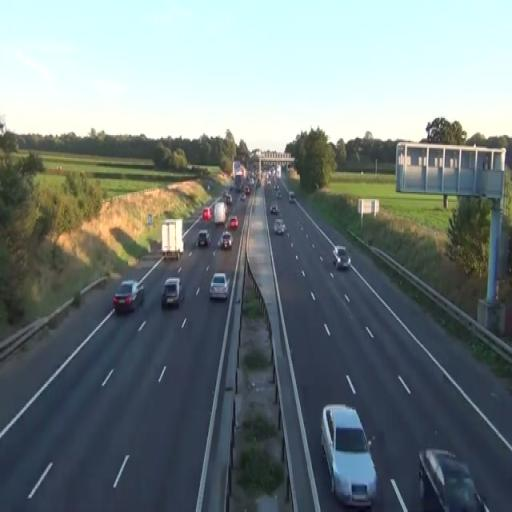Car: (320, 404, 378, 508), (417, 446, 481, 512), (112, 279, 145, 313), (209, 272, 230, 301), (162, 277, 180, 309), (333, 246, 350, 270), (220, 231, 233, 250), (198, 229, 210, 247), (274, 219, 286, 236), (229, 216, 238, 230)
